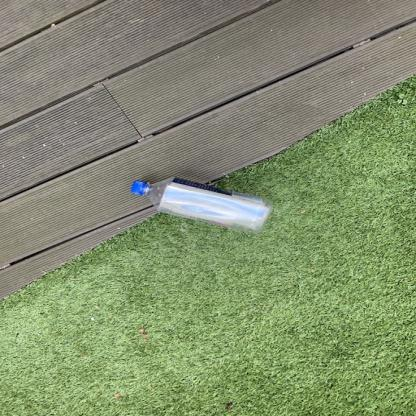trash: (128, 176, 277, 235)
